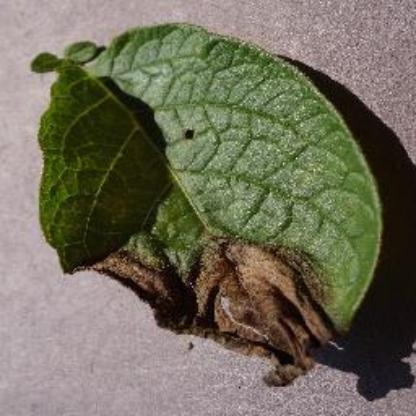Late-Blight: (26, 20, 386, 382)
